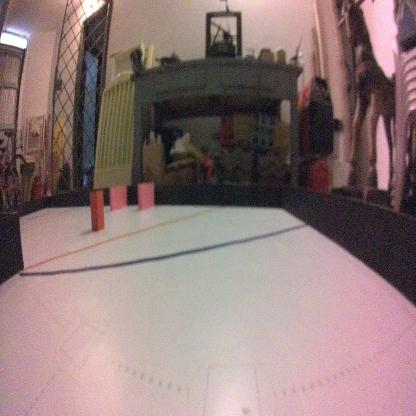magenta: (136, 180, 153, 212), (108, 185, 126, 214)
red: (89, 186, 104, 238)
